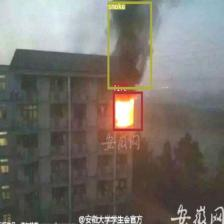fire: (113, 92, 142, 130)
smoke: (107, 2, 152, 88)
